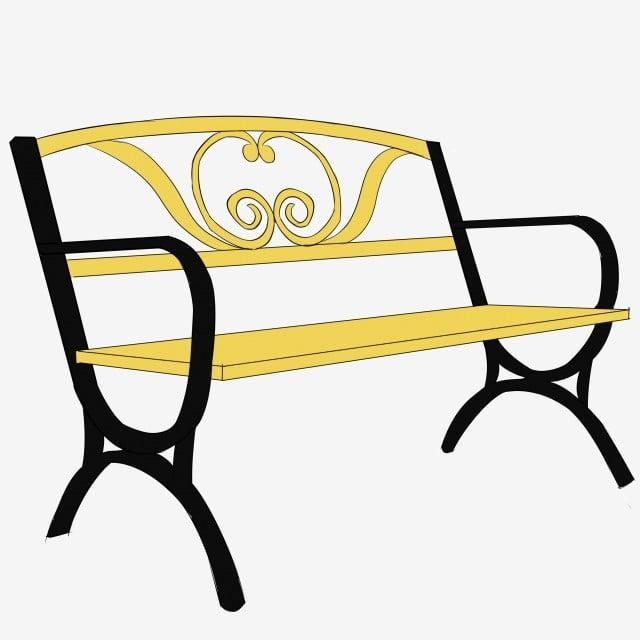chair: (0, 70, 640, 562)
